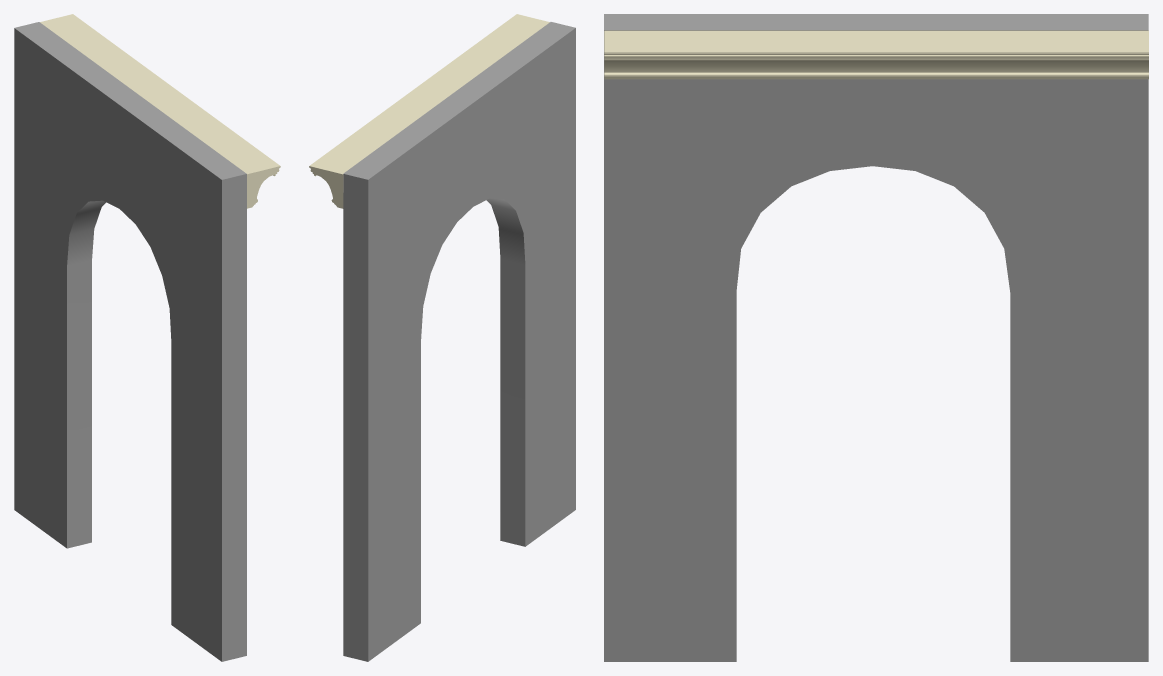
The model's file is Env_Ballroom_ArchWay_01.fbx.
3 renders of one model, left to right at view 1: azimuth 30°, elevation 25°; view 2: azimuth 150°, elevation 25°; view 3: azimuth 270°, elevation 25°, orthographic. The views are drawn at different scales.
Parts seen in each view (by area): view 1: Env_Wall_DoorArchBase_01, Env_Wall_Large_Cornice_01; view 2: Env_Wall_DoorArchBase_01, Env_Wall_Large_Cornice_01; view 3: Env_Wall_DoorArchBase_01, Env_Wall_Large_Cornice_01.
Part boxes in pixels (x1,y1,x2,y2): Env_Wall_DoorArchBase_01: (14, 22, 246, 661); Env_Wall_Large_Cornice_01: (40, 14, 280, 208); Env_Wall_DoorArchBase_01: (343, 22, 575, 661); Env_Wall_Large_Cornice_01: (309, 14, 549, 208); Env_Wall_DoorArchBase_01: (604, 14, 1148, 661); Env_Wall_Large_Cornice_01: (604, 30, 1148, 79).
Size of the model in its own units: 86.82 by 678 by 530.
